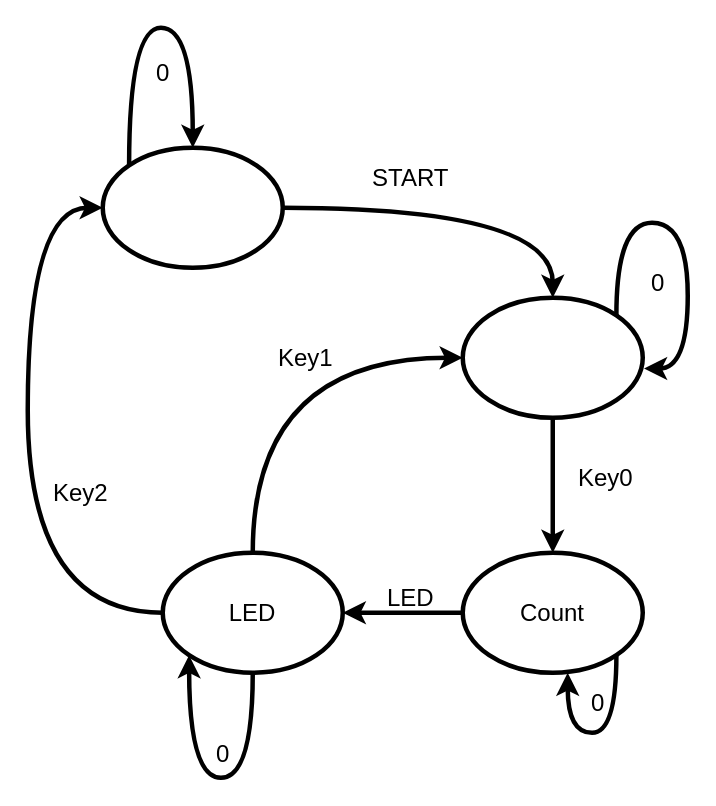
The diagram is 716 pixels wide and 806 high, and some of its shapes have lost their labels. The shapes that lost their labels are listed below. From the top down, each one's centre as x and y in pixels, then its label:
point (192, 207): IDLE
point (552, 357): RESET
